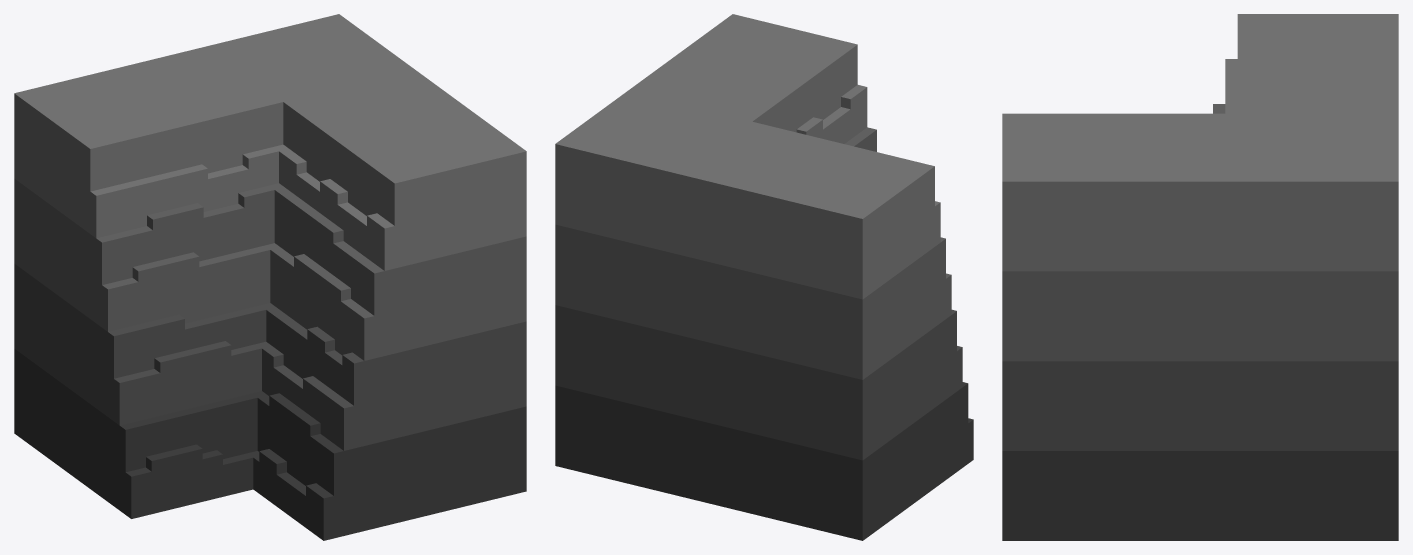
Rendered from mountain-edge-inner-3.gltf.
3 renders of one model, left to right at view 1: azimuth 30°, elevation 25°; view 2: azimuth 150°, elevation 25°; view 3: azimuth 270°, elevation 25°, orthographic. The views are drawn at different scales.
Parts seen in each view (by area): view 1: mountain-edge-inner-3; view 2: mountain-edge-inner-3; view 3: mountain-edge-inner-3.
Part boxes in pixels (x1,y1,x2,y2): mountain-edge-inner-3: (14,14,526,540); mountain-edge-inner-3: (555,14,973,540); mountain-edge-inner-3: (1002,14,1398,540).
Size of the model in its own units: 3.2 by 3.2 by 3.2.
1 material, 1 textured.
